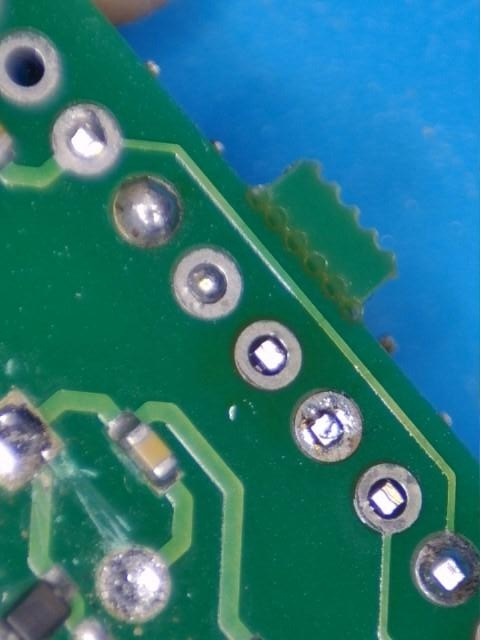pcb_defect: (53, 104, 120, 175), (175, 248, 242, 318), (295, 392, 362, 462), (114, 175, 181, 245), (100, 551, 165, 619)
